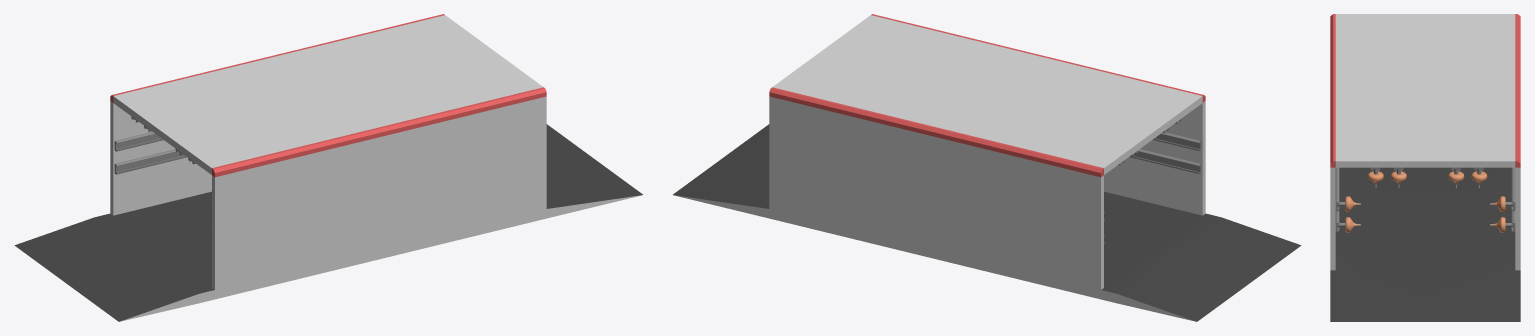
File: CarPainter.fbx
The picture shows the model from 3 angles, left to right: view 1: azimuth 30°, elevation 25°; view 2: azimuth 150°, elevation 25°; view 3: azimuth 270°, elevation 25°; orthographic projection. The views are drawn at different scales.
Visible parts, largest first — view 1: CarPainter; view 2: CarPainter; view 3: CarPainter, Painter.
Part boxes in pixels (bbox=[...]): CarPainter: bbox=[14, 14, 642, 321]; CarPainter: bbox=[673, 14, 1301, 321]; CarPainter: bbox=[1330, 14, 1520, 321]; Painter: bbox=[1337, 169, 1513, 232].
Bounding box in the file's own units: 18.5 × 4.35 × 6.38.
